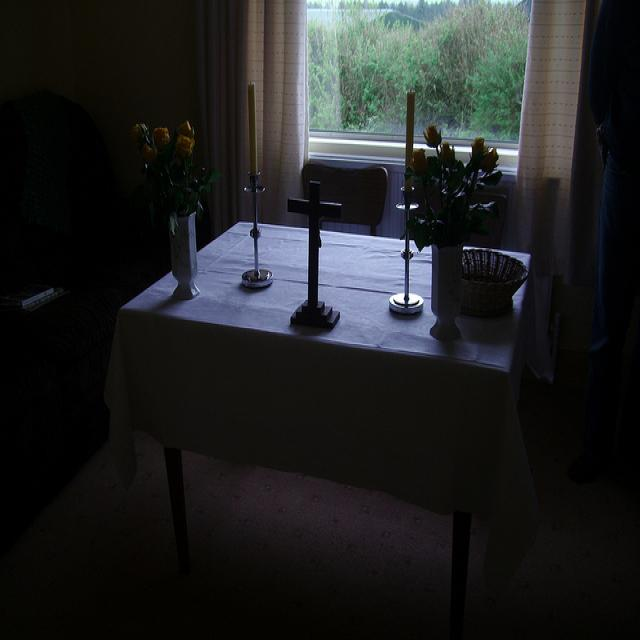Table: (108, 232, 579, 634)
chair: (293, 125, 394, 275)
